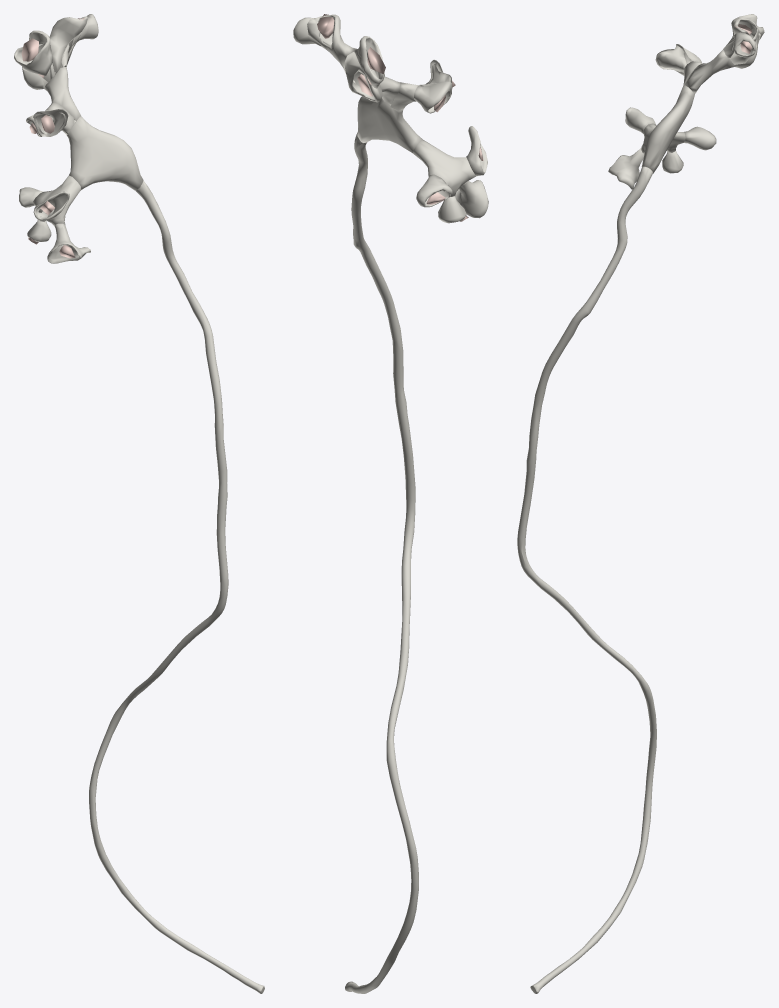
File: vh_f_ureter_r-20.glb
3 views of the same model, side by side, from view 1: azimuth 30°, elevation 25°; view 2: azimuth 150°, elevation 25°; view 3: azimuth 270°, elevation 25° (orthographic). The views are drawn at different scales.
Visible parts, largest first — view 1: VH_F_right_ureter, VH_F_renal_pelvis_R, VH_F_minor_calyx_R_b, VH_F_minor_calyx_R_d, VH_F_major_calyx_R_a, VH_F_major_calyx_R_c, VH_F_minor_calyx_R_j, VH_F_minor_calyx_R_f; view 2: VH_F_right_ureter, VH_F_renal_pelvis_R, VH_F_major_calyx_R_c, VH_F_minor_calyx_R_b, VH_F_minor_calyx_R_j, VH_F_minor_calyx_R_c, VH_F_minor_calyx_R_e, VH_F_minor_calyx_R_d, VH_F_minor_calyx_R_g, VH_F_minor_calyx_R_i, VH_F_minor_calyx_R_h, VH_F_minor_calyx_R_a (+1 smaller); view 3: VH_F_right_ureter, VH_F_renal_pelvis_R, VH_F_major_calyx_R_a, VH_F_minor_calyx_R_j, VH_F_minor_calyx_R_f, VH_F_minor_calyx_R_g.
Boxes of the visible parts, <box> form: VH_F_right_ureter: <box>89,180,264,993</box>; VH_F_renal_pelvis_R: <box>67,116,143,190</box>; VH_F_minor_calyx_R_b: <box>49,16,87,76</box>; VH_F_minor_calyx_R_d: <box>14,30,52,75</box>; VH_F_major_calyx_R_a: <box>44,67,80,122</box>; VH_F_major_calyx_R_c: <box>33,175,81,225</box>; VH_F_minor_calyx_R_j: <box>47,223,90,263</box>; VH_F_minor_calyx_R_f: <box>33,109,68,136</box>; VH_F_right_ureter: <box>345,132,418,993</box>; VH_F_renal_pelvis_R: <box>357,96,422,153</box>; VH_F_major_calyx_R_c: <box>413,140,475,196</box>; VH_F_minor_calyx_R_b: <box>307,14,357,83</box>; VH_F_minor_calyx_R_j: <box>455,180,488,218</box>; VH_F_minor_calyx_R_c: <box>344,51,382,102</box>; VH_F_minor_calyx_R_e: <box>414,81,451,113</box>; VH_F_minor_calyx_R_d: <box>355,36,384,88</box>; VH_F_minor_calyx_R_g: <box>416,174,452,207</box>; VH_F_minor_calyx_R_i: <box>466,126,487,176</box>; VH_F_minor_calyx_R_h: <box>438,196,466,223</box>; VH_F_minor_calyx_R_a: <box>293,17,332,51</box>; VH_F_right_ureter: <box>517,166,656,993</box>; VH_F_renal_pelvis_R: <box>641,85,694,173</box>; VH_F_major_calyx_R_a: <box>684,50,734,93</box>; VH_F_minor_calyx_R_j: <box>608,148,644,189</box>; VH_F_minor_calyx_R_f: <box>655,44,690,72</box>; VH_F_minor_calyx_R_g: <box>683,126,716,150</box>.
Bounding box in the file's own units: 0.0518 × 0.2627 × 0.0632.
